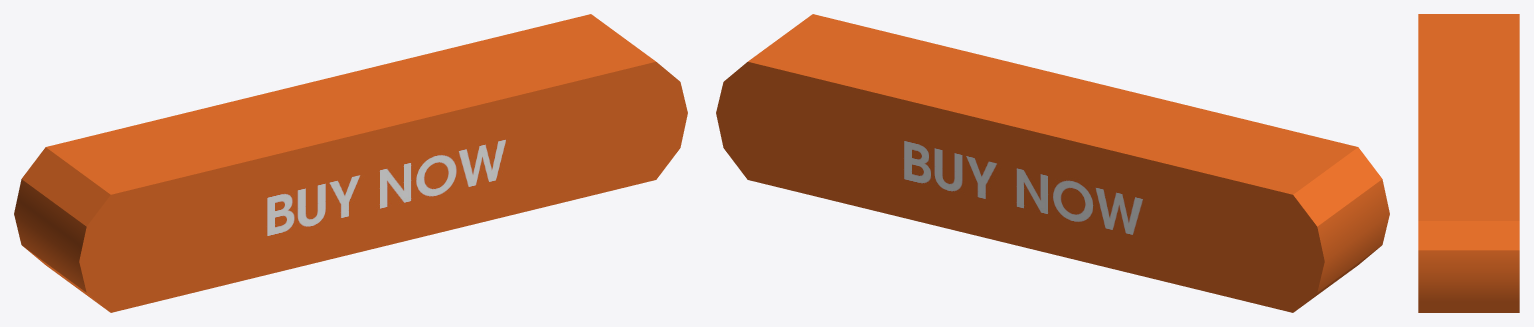
Rendered from link-button-buy-orange.glb.
3 views of the same model, side by side, from view 1: azimuth 30°, elevation 25°; view 2: azimuth 150°, elevation 25°; view 3: azimuth 270°, elevation 25° (orthographic). The views are drawn at different scales.
Visible parts, largest first — view 1: Cube; view 2: Cube; view 3: Cube.
Part boxes in pixels (x1=…): Cube: x1=14, y1=14, x2=687, y2=312; Cube: x1=716, y1=14, x2=1389, y2=312; Cube: x1=1418, y1=14, x2=1519, y2=312.
Size of the model in its own units: 2.62 by 0.4867 by 0.4867.
1 material, 1 textured.
